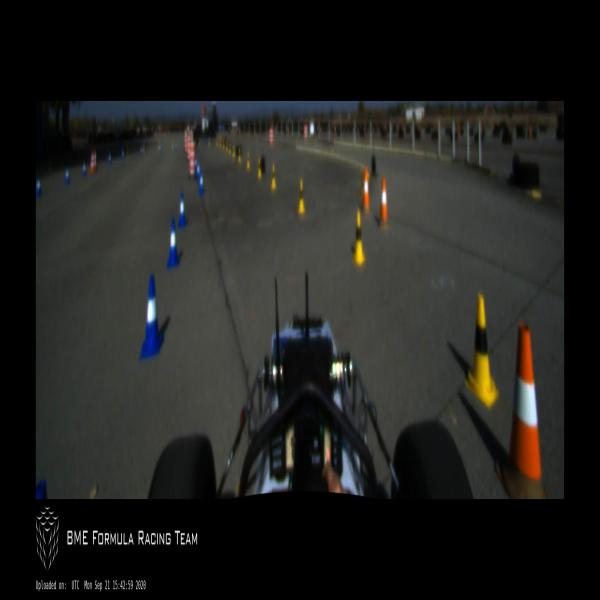blue_cone: (141, 274, 163, 358), (167, 218, 179, 268), (179, 191, 186, 227), (199, 171, 204, 195), (36, 178, 42, 196), (65, 167, 69, 184), (82, 162, 86, 176), (108, 152, 111, 165), (197, 162, 199, 180), (121, 150, 124, 160)
large_orange_cone: (90, 149, 94, 174), (94, 148, 97, 171)
yellow_cone: (464, 290, 498, 410), (352, 209, 366, 267), (298, 179, 306, 213), (271, 164, 276, 190), (257, 157, 262, 179), (246, 151, 250, 169), (238, 147, 241, 162), (232, 143, 235, 158), (228, 141, 231, 156), (222, 138, 224, 150), (226, 140, 228, 151)
